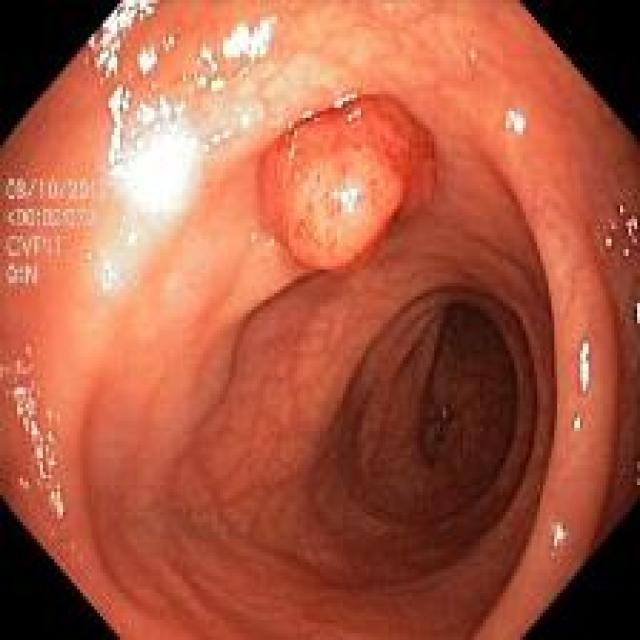Polyps: (259, 94, 436, 270)
